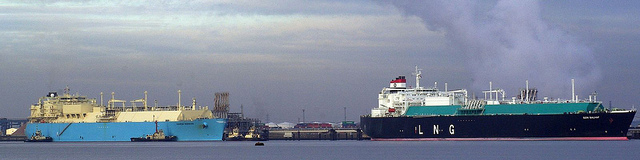LNG_ship: (360, 63, 636, 142), (24, 90, 224, 142)
tug_boat: (129, 122, 180, 144), (25, 125, 52, 144), (223, 125, 242, 143), (244, 124, 260, 140)
